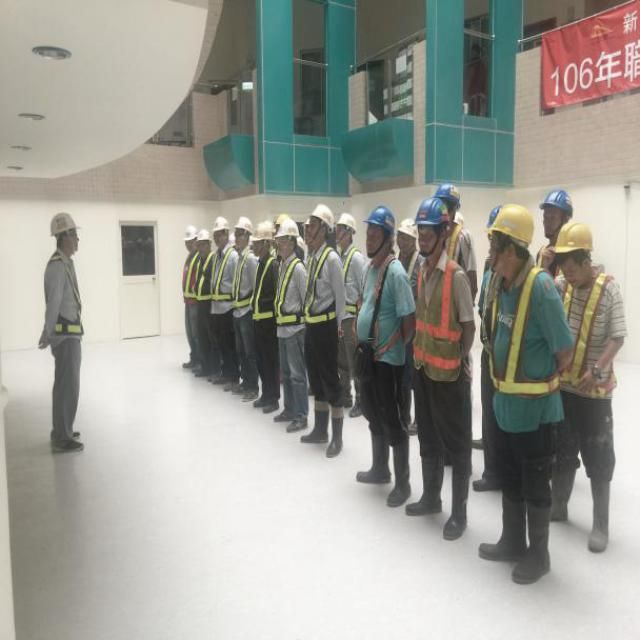helmet: (482, 205, 537, 277), (554, 217, 594, 285), (411, 192, 450, 256), (43, 202, 85, 260), (536, 186, 572, 239), (365, 204, 393, 264), (304, 196, 334, 250), (271, 220, 302, 262), (208, 214, 229, 248), (253, 221, 270, 260), (401, 217, 418, 255), (336, 214, 356, 246), (178, 219, 196, 254), (232, 215, 249, 251), (193, 227, 213, 255)
vest: (473, 277, 558, 403), (555, 284, 625, 396), (411, 260, 467, 376), (352, 262, 402, 361), (39, 259, 89, 340), (306, 251, 339, 326), (276, 265, 304, 327), (249, 255, 274, 320), (209, 253, 235, 304), (233, 252, 254, 310), (192, 258, 212, 304), (178, 259, 194, 303)
